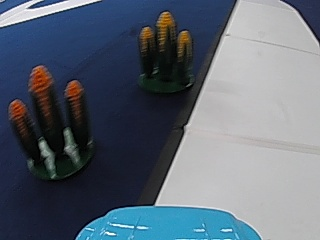corn: (12, 70, 93, 183), (135, 12, 196, 94)
